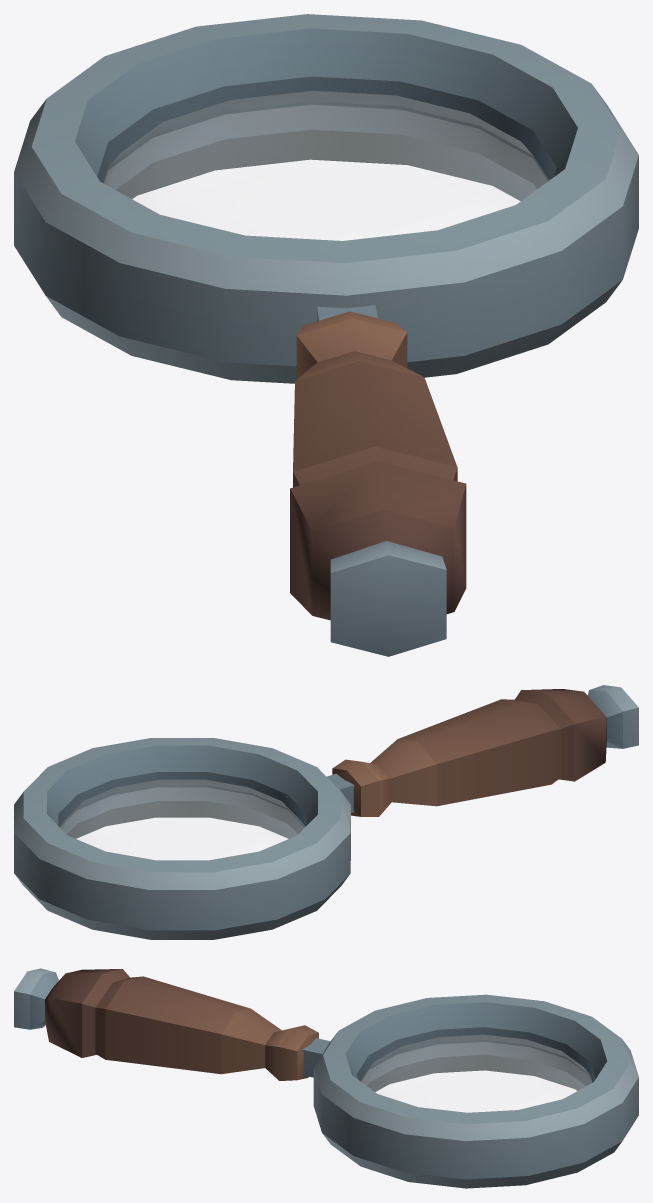
File: building_monitoring.glb
The picture shows the model from 3 angles, top to bottom: view 1: azimuth 30°, elevation 25°; view 2: azimuth 150°, elevation 25°; view 3: azimuth 270°, elevation 25°; orthographic projection. The views are drawn at different scales.
Parts seen in each view (by area): view 1: magnifying_glass; view 2: magnifying_glass; view 3: magnifying_glass.
Part boxes in pixels (bbox=[...]): magnifying_glass: bbox=[14, 14, 638, 656]; magnifying_glass: bbox=[14, 685, 638, 939]; magnifying_glass: bbox=[14, 968, 638, 1188].
Size of the model in its own units: 3.94 by 0.847 by 5.98.
Materials: 2 (1 with a texture image).
